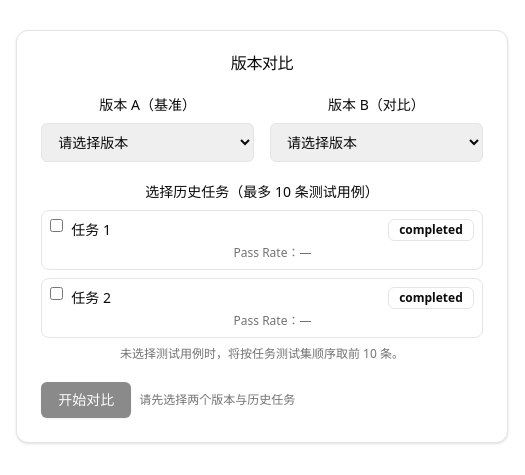
Test: PromptComparePanel › shows workspace error when selecting tasks across workspaces
The width and height of the screenshot is (525, 475).
What coordinates should you click on to do the following:
click the checkbox labelled "任务 1 completed Pass Rate：—"
I would click on:
 (57, 225)
Its box is [50, 218, 63, 232].
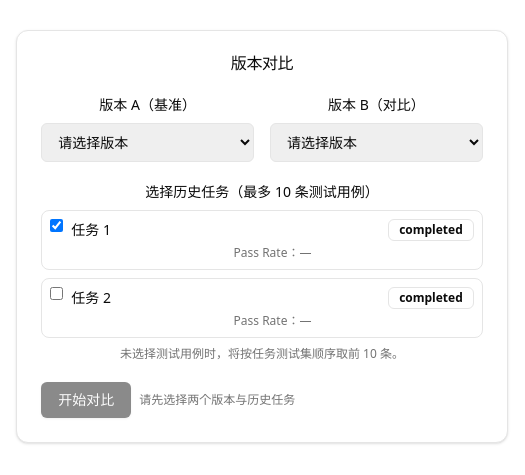
What coordinates should you click on to do the following:
click the checkbox labelled "任务 2 completed Pass Rate：—"
I would click on:
 (57, 293)
Its box is [50, 286, 63, 300].
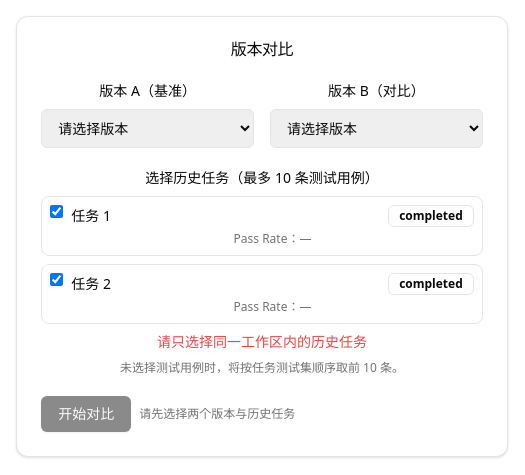
Expected: the text "请只选择同一工作区内的历史任务" is shown, [157, 332, 367, 350]
